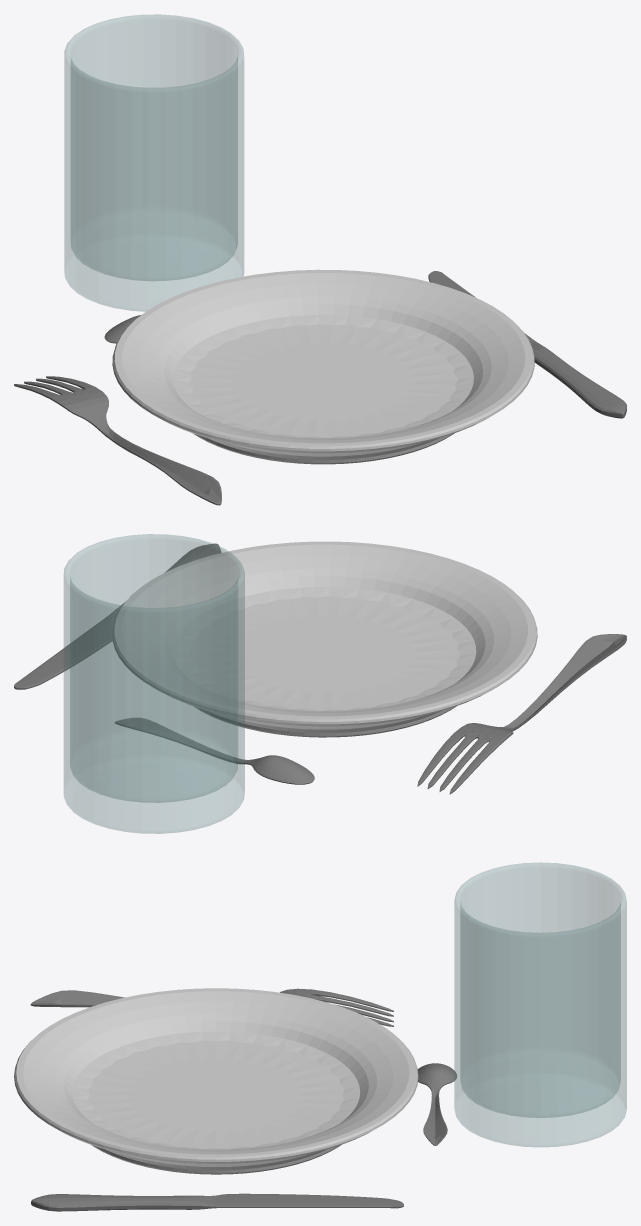
Rendered from plate-and-ustensils.obj.
The picture shows the model from 3 angles, top to bottom: view 1: azimuth 30°, elevation 25°; view 2: azimuth 150°, elevation 25°; view 3: azimuth 270°, elevation 25°; orthographic projection. The views are drawn at different scales.
Parts seen in each view (by area): view 1: bread_plate_bread_plate_CERAMIC_white, 12_oz_glass_12_oz_glass_12_oz_glass, fork_fork_METAL_flatware, table_knife_table_knife_METAL_flatware.001; view 2: bread_plate_bread_plate_CERAMIC_white, 12_oz_glass_12_oz_glass_12_oz_glass, fork_fork_METAL_flatware, table_knife_table_knife_METAL_flatware.001, teaspoon_teaspoon.004_METAL_flatware.007; view 3: bread_plate_bread_plate_CERAMIC_white, 12_oz_glass_12_oz_glass_12_oz_glass, table_knife_table_knife_METAL_flatware.001, fork_fork_METAL_flatware, teaspoon_teaspoon.004_METAL_flatware.007.
Boxes of the visible parts, box(x1,y1,x2,y2) form: bread_plate_bread_plate_CERAMIC_white: box(112, 269, 534, 464); 12_oz_glass_12_oz_glass_12_oz_glass: box(64, 14, 243, 311); fork_fork_METAL_flatware: box(14, 376, 221, 505); table_knife_table_knife_METAL_flatware.001: box(428, 271, 626, 418); bread_plate_bread_plate_CERAMIC_white: box(112, 541, 537, 737); 12_oz_glass_12_oz_glass_12_oz_glass: box(64, 534, 244, 833); fork_fork_METAL_flatware: box(417, 634, 626, 794); table_knife_table_knife_METAL_flatware.001: box(14, 543, 221, 689); teaspoon_teaspoon.004_METAL_flatware.007: box(115, 718, 314, 784); bread_plate_bread_plate_CERAMIC_white: box(14, 988, 418, 1174); 12_oz_glass_12_oz_glass_12_oz_glass: box(454, 862, 626, 1147); table_knife_table_knife_METAL_flatware.001: box(31, 1193, 403, 1211); fork_fork_METAL_flatware: box(30, 988, 393, 1026); teaspoon_teaspoon.004_METAL_flatware.007: box(417, 1063, 456, 1145).
Size of the model in its own units: 1.49 by 0.7254 by 1.87.
